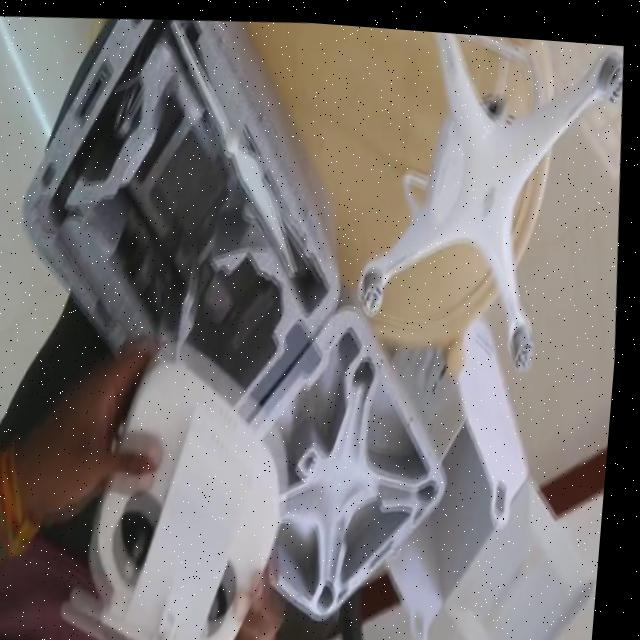drones: (329, 20, 640, 388)
